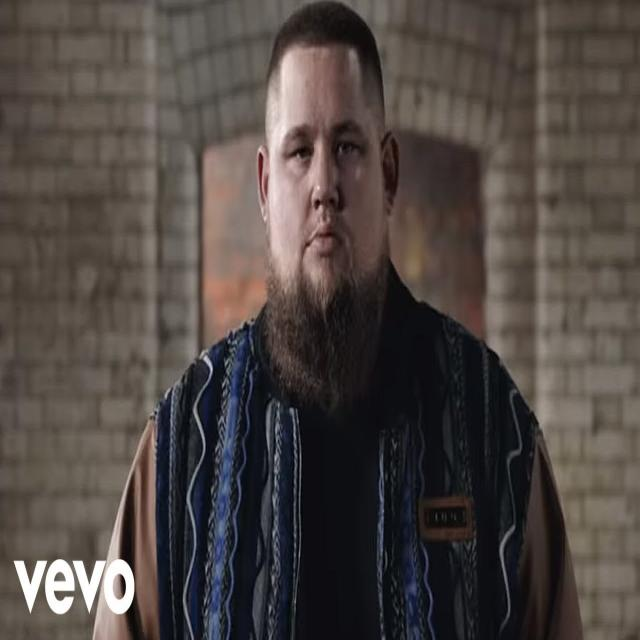human: (94, 11, 593, 640)
